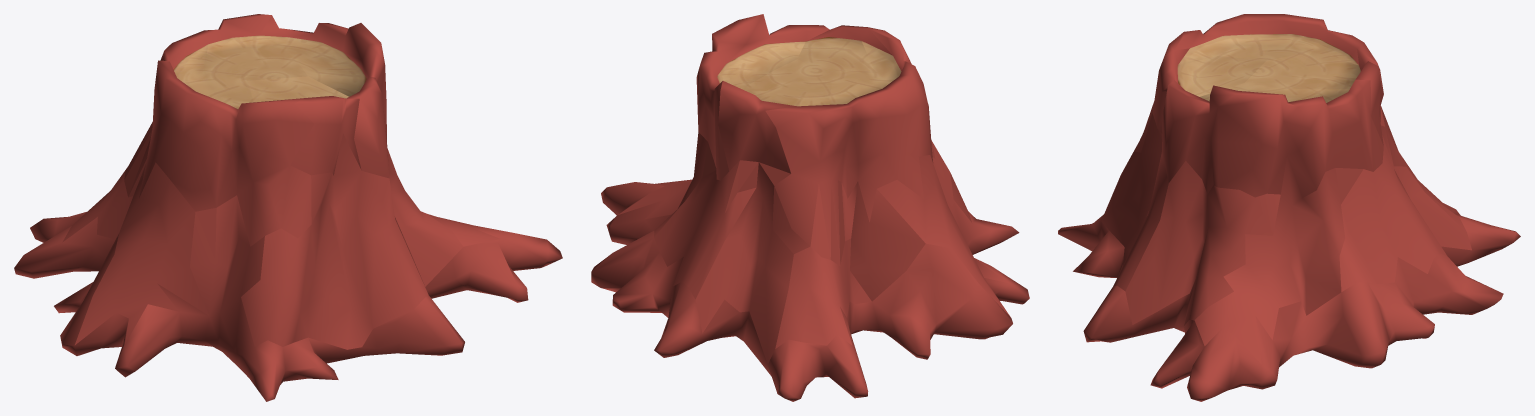
File: TreeStump.fbx
The picture shows the model from 3 angles, left to right: view 1: azimuth 30°, elevation 25°; view 2: azimuth 150°, elevation 25°; view 3: azimuth 270°, elevation 25°; orthographic projection. The views are drawn at different scales.
Visible parts, largest first — view 1: TreeStump, TreeStump.005, TreeStump.002, TreeStump.007, TreeStump.001, TreeStump.003, TreeStump.004, TreeStump.006, TreeStump.010, TreeStump.008; view 2: TreeStump, TreeStump.002, TreeStump.009, TreeStump.001, TreeStump.004, TreeStump.007, TreeStump.008, TreeStump.010, TreeStump.006, TreeStump.005, TreeStump.003; view 3: TreeStump, TreeStump.001, TreeStump.007, TreeStump.006, TreeStump.008, TreeStump.002, TreeStump.005, TreeStump.004, TreeStump.003, TreeStump.009.
Boxes of the visible parts, x1=… form: TreeStump: x1=14, y1=195, x2=562, y2=401; TreeStump.005: x1=124, y1=122, x2=428, y2=349; TreeStump.002: x1=125, y1=30, x2=313, y2=246; TreeStump.007: x1=75, y1=162, x2=500, y2=344; TreeStump.001: x1=259, y1=15, x2=389, y2=178; TreeStump.003: x1=248, y1=76, x2=361, y2=175; TreeStump.004: x1=191, y1=14, x2=307, y2=80; TreeStump.006: x1=387, y1=148, x2=463, y2=286; TreeStump.010: x1=62, y1=167, x2=133, y2=242; TreeStump.008: x1=195, y1=208, x2=216, y2=260; TreeStump: x1=591, y1=141, x2=1029, y2=401; TreeStump.002: x1=765, y1=29, x2=935, y2=264; TreeStump.009: x1=695, y1=162, x2=793, y2=364; TreeStump.001: x1=696, y1=14, x2=829, y2=180; TreeStump.004: x1=718, y1=59, x2=832, y2=173; TreeStump.007: x1=618, y1=132, x2=1010, y2=317; TreeStump.008: x1=654, y1=160, x2=755, y2=299; TreeStump.010: x1=775, y1=238, x2=871, y2=348; TreeStump.006: x1=725, y1=161, x2=925, y2=301; TreeStump.005: x1=702, y1=126, x2=971, y2=265; TreeStump.003: x1=797, y1=25, x2=892, y2=78; TreeStump: x1=1058, y1=203, x2=1520, y2=401; TreeStump.001: x1=1162, y1=79, x2=1382, y2=197; TreeStump.007: x1=1194, y1=156, x2=1345, y2=363; TreeStump.006: x1=1125, y1=161, x2=1280, y2=325; TreeStump.008: x1=1339, y1=135, x2=1446, y2=291; TreeStump.002: x1=1134, y1=14, x2=1398, y2=152; TreeStump.005: x1=1101, y1=105, x2=1405, y2=291; TreeStump.004: x1=1245, y1=49, x2=1383, y2=145; TreeStump.003: x1=1152, y1=44, x2=1265, y2=133; TreeStump.009: x1=1381, y1=125, x2=1471, y2=250.
Size of the model in its own units: 0.7478 by 0.4013 by 0.6662.
